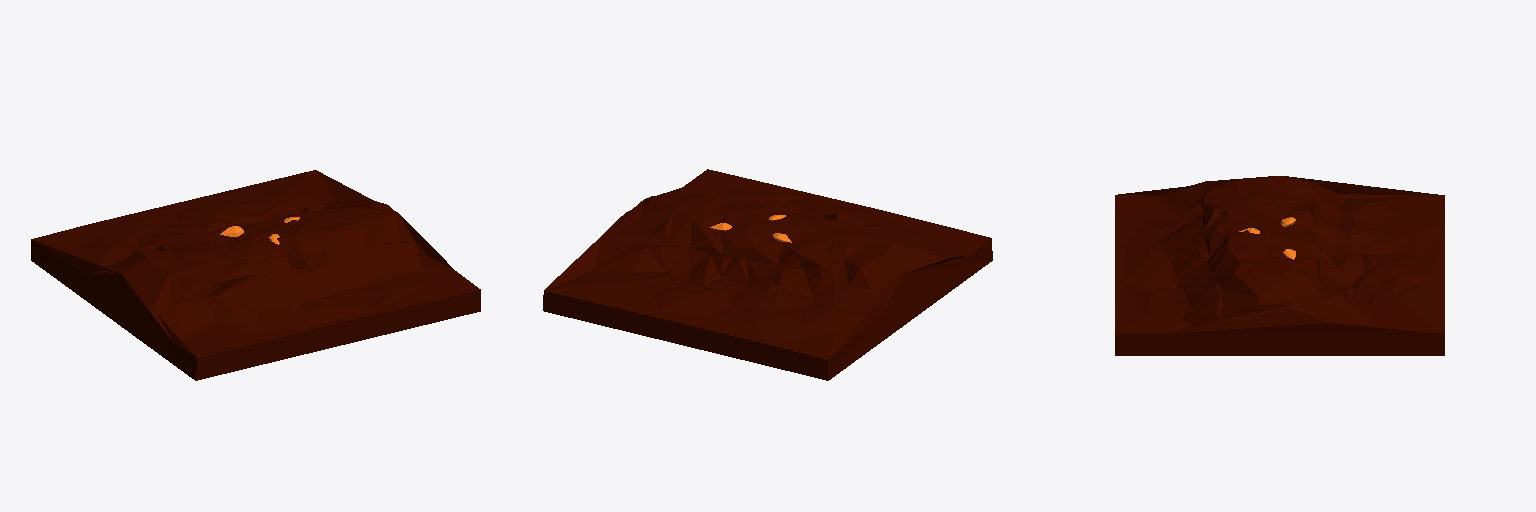
The model's file is bedeng_seed.obj.
3 views of the same model, side by side, from view 1: azimuth 30°, elevation 25°; view 2: azimuth 150°, elevation 25°; view 3: azimuth 270°, elevation 25° (orthographic).
Visible parts, largest first — view 1: PP_Meadow_Path_05_Scene.1042; view 2: PP_Meadow_Path_05_Scene.1042; view 3: PP_Meadow_Path_05_Scene.1042.
Part boxes in pixels (x1,y1,x2,y2): PP_Meadow_Path_05_Scene.1042: (31,170,480,380); PP_Meadow_Path_05_Scene.1042: (543,169,992,380); PP_Meadow_Path_05_Scene.1042: (1115,176,1444,355).
Bounding box in the file's own units: 1 × 0.2 × 1.